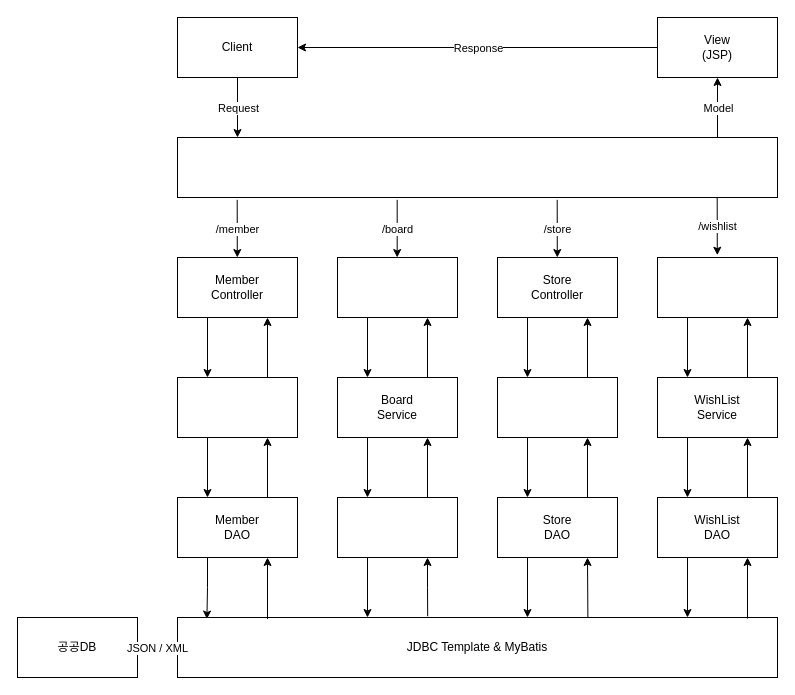
Some shapes in this 795 by 695 pixel diagram are drawn without their labels. The box of each missing label's shape, as (x1, y1, x2, y2) in pixels:
Board Controller: (336, 256, 458, 318)
Board DAO: (336, 496, 458, 558)
Dispatcher Servlet: (176, 136, 778, 198)
Member Service: (176, 376, 298, 438)
Store Service: (496, 376, 618, 438)
WishList Controller: (656, 256, 778, 318)
